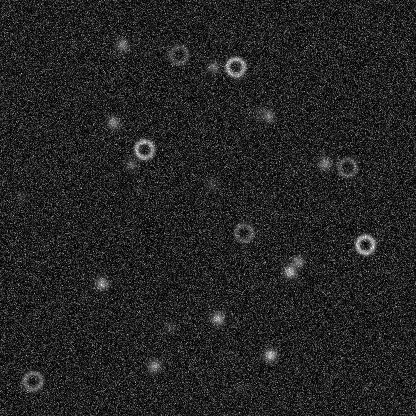Ring: (223, 54, 247, 78), (166, 42, 190, 66), (353, 232, 377, 256), (231, 220, 255, 244), (132, 137, 156, 161), (335, 155, 359, 179), (20, 368, 44, 392)
Spot: (13, 190, 29, 206), (250, 104, 266, 120), (260, 108, 276, 124), (122, 156, 138, 172), (203, 176, 219, 192), (316, 155, 332, 171), (162, 319, 178, 335), (231, 379, 247, 395), (93, 275, 109, 291), (262, 346, 278, 362), (209, 310, 225, 326), (113, 36, 129, 52), (146, 357, 162, 373), (104, 114, 120, 130), (205, 59, 221, 75), (281, 263, 297, 279), (289, 253, 305, 269)
